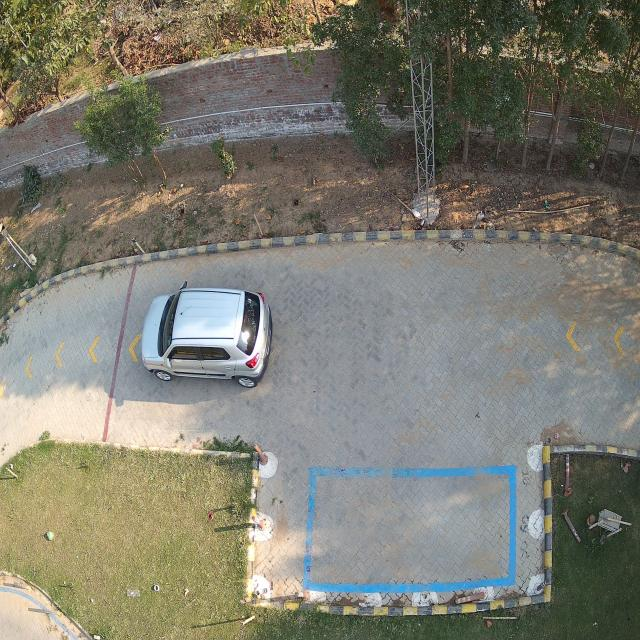car: (141, 285, 272, 388)
